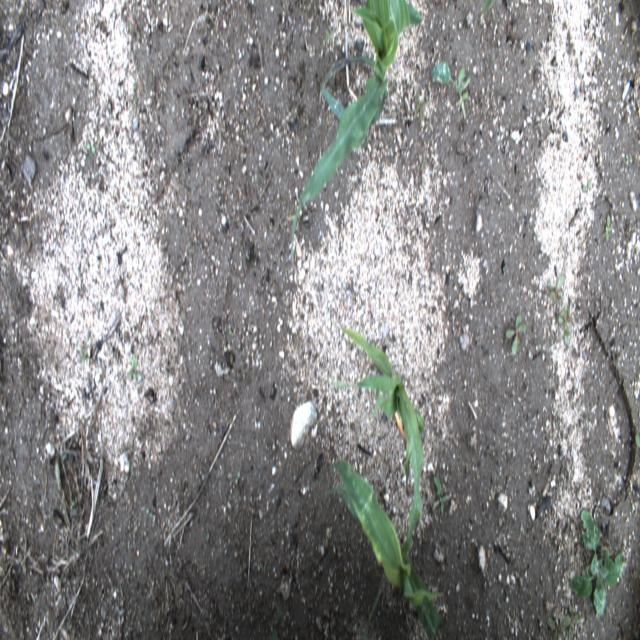crop: (293, 4, 426, 258), (323, 319, 431, 616), (331, 460, 446, 634)
weed: (561, 506, 626, 613), (428, 57, 478, 133), (542, 268, 568, 348), (500, 310, 529, 361), (432, 460, 451, 512)
